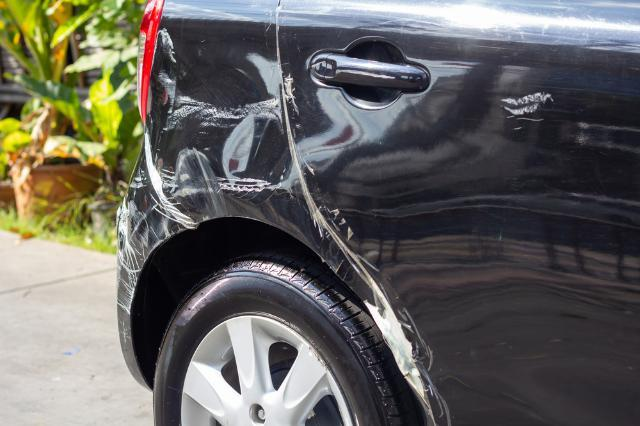scratch: (110, 22, 289, 311), (493, 89, 556, 132)
